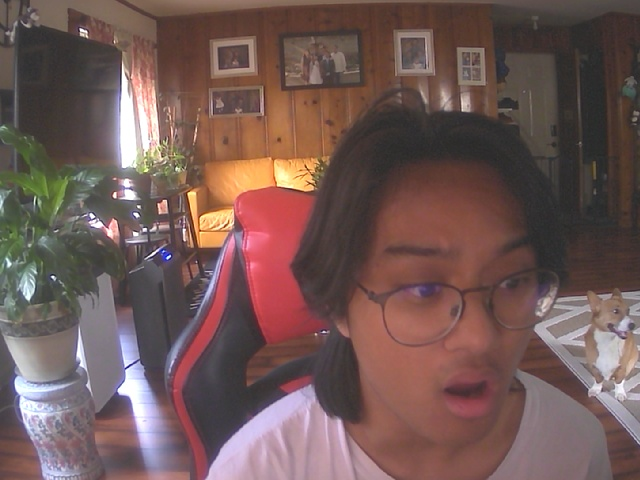fear: (317, 108, 571, 451)
